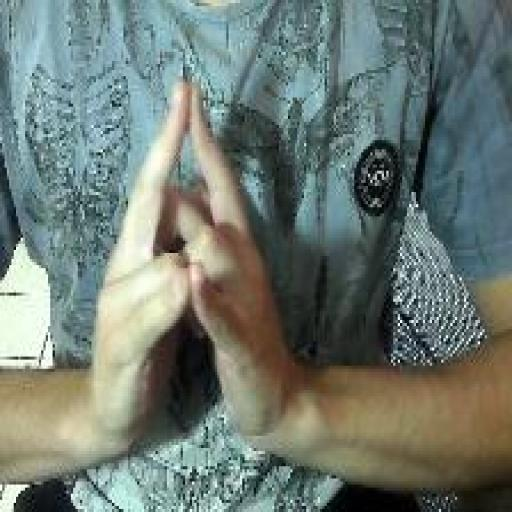Tori -bird-: (88, 74, 289, 464)
